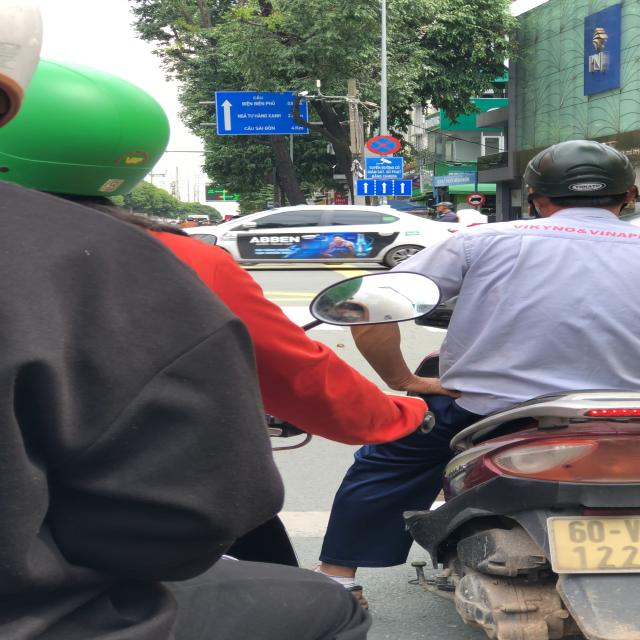Bien bao cam dung xe va do xe: (362, 135, 404, 156)
